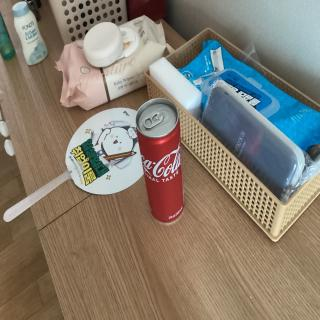cocacola: (136, 95, 191, 225)
